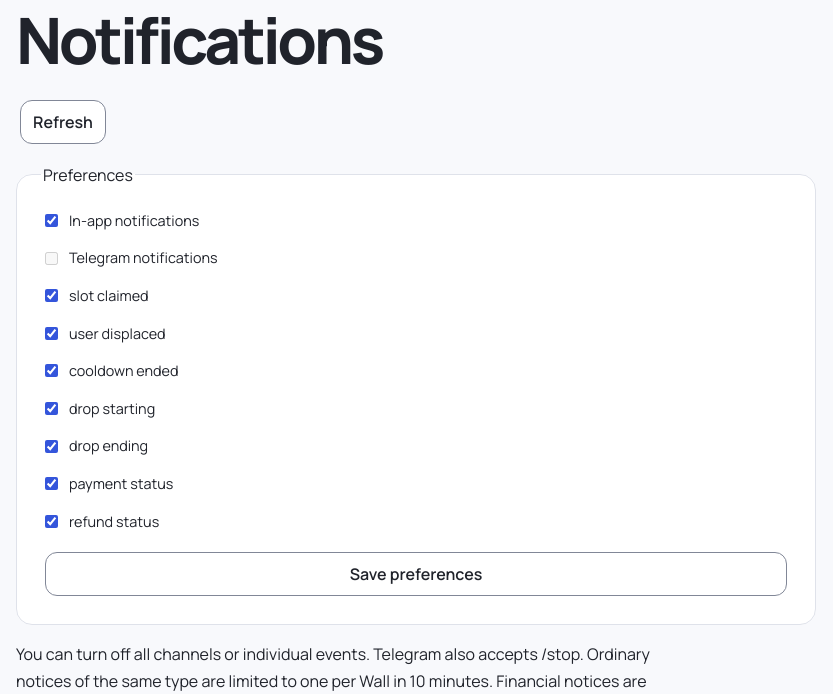
Test case: persists channel/event preferences and clears private inbox on session expiry
Step 1. Click the checkbox labelled "In-app notifications" → (52, 220), box top-left (45, 214), bottom-right (58, 227)
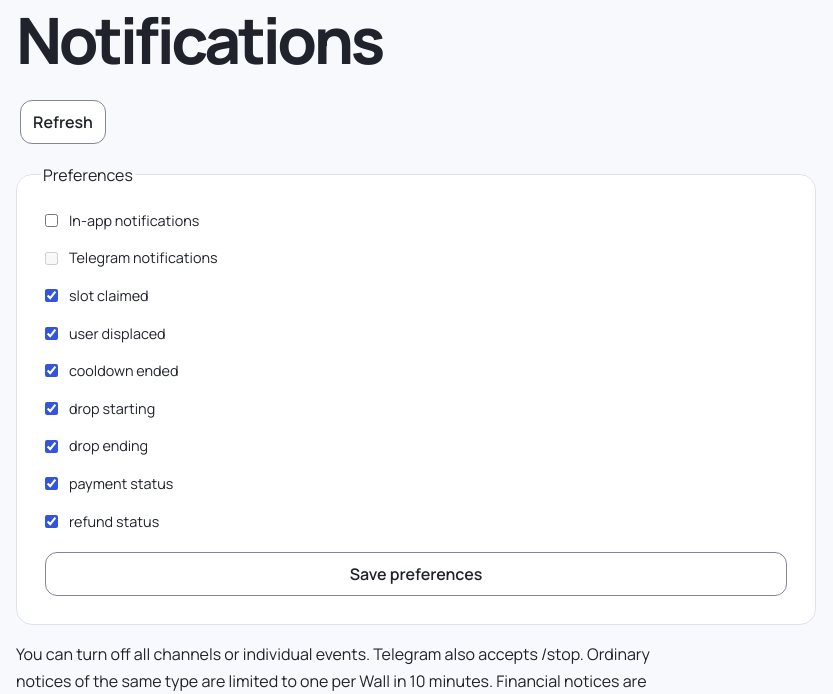
Step 2. Click the button "Save preferences" → (416, 574), box top-left (45, 552), bottom-right (787, 596)
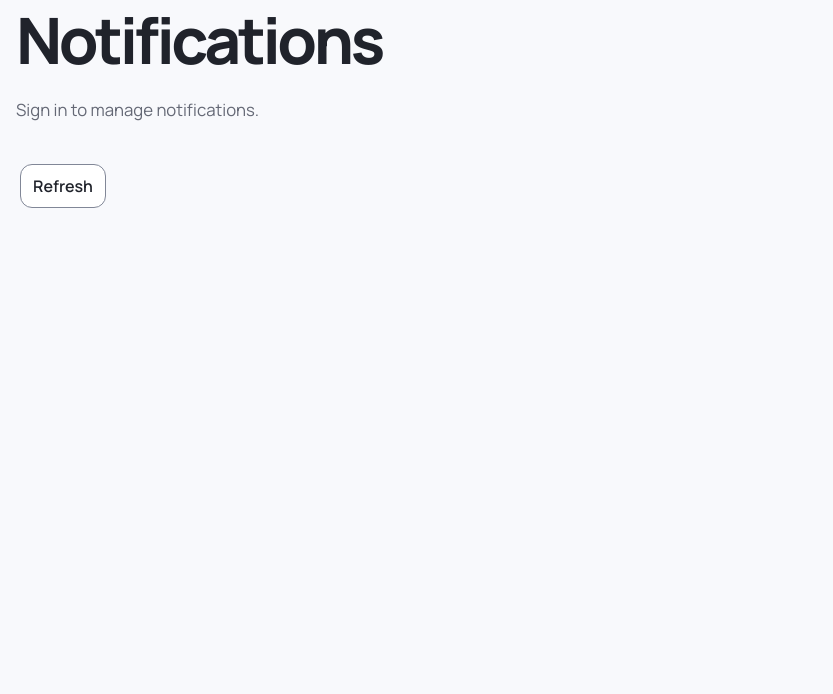
Now the text "Sign in to manage notifications." is shown, box top-left (16, 98), bottom-right (259, 121)
